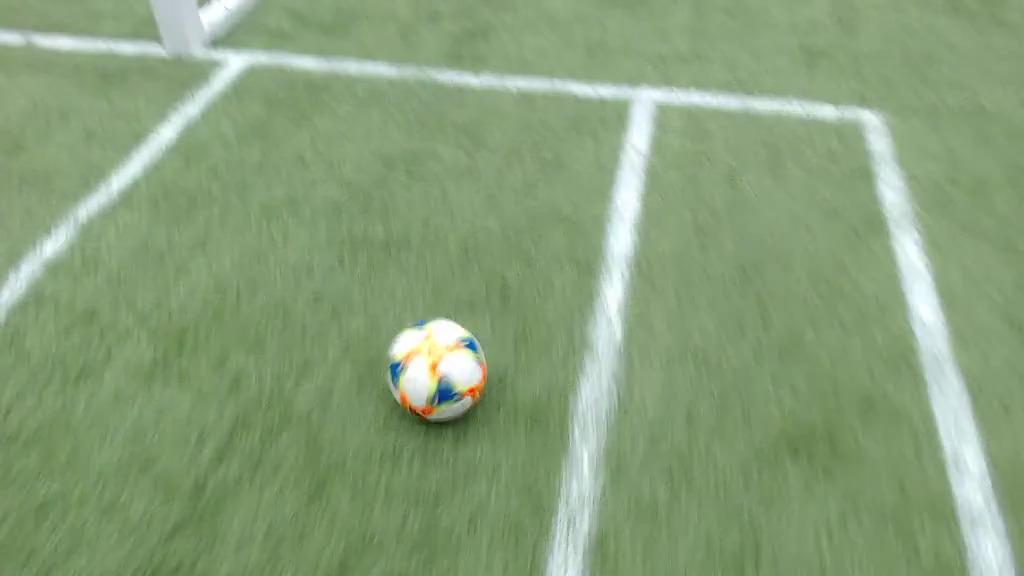ball: (389, 317, 485, 422)
